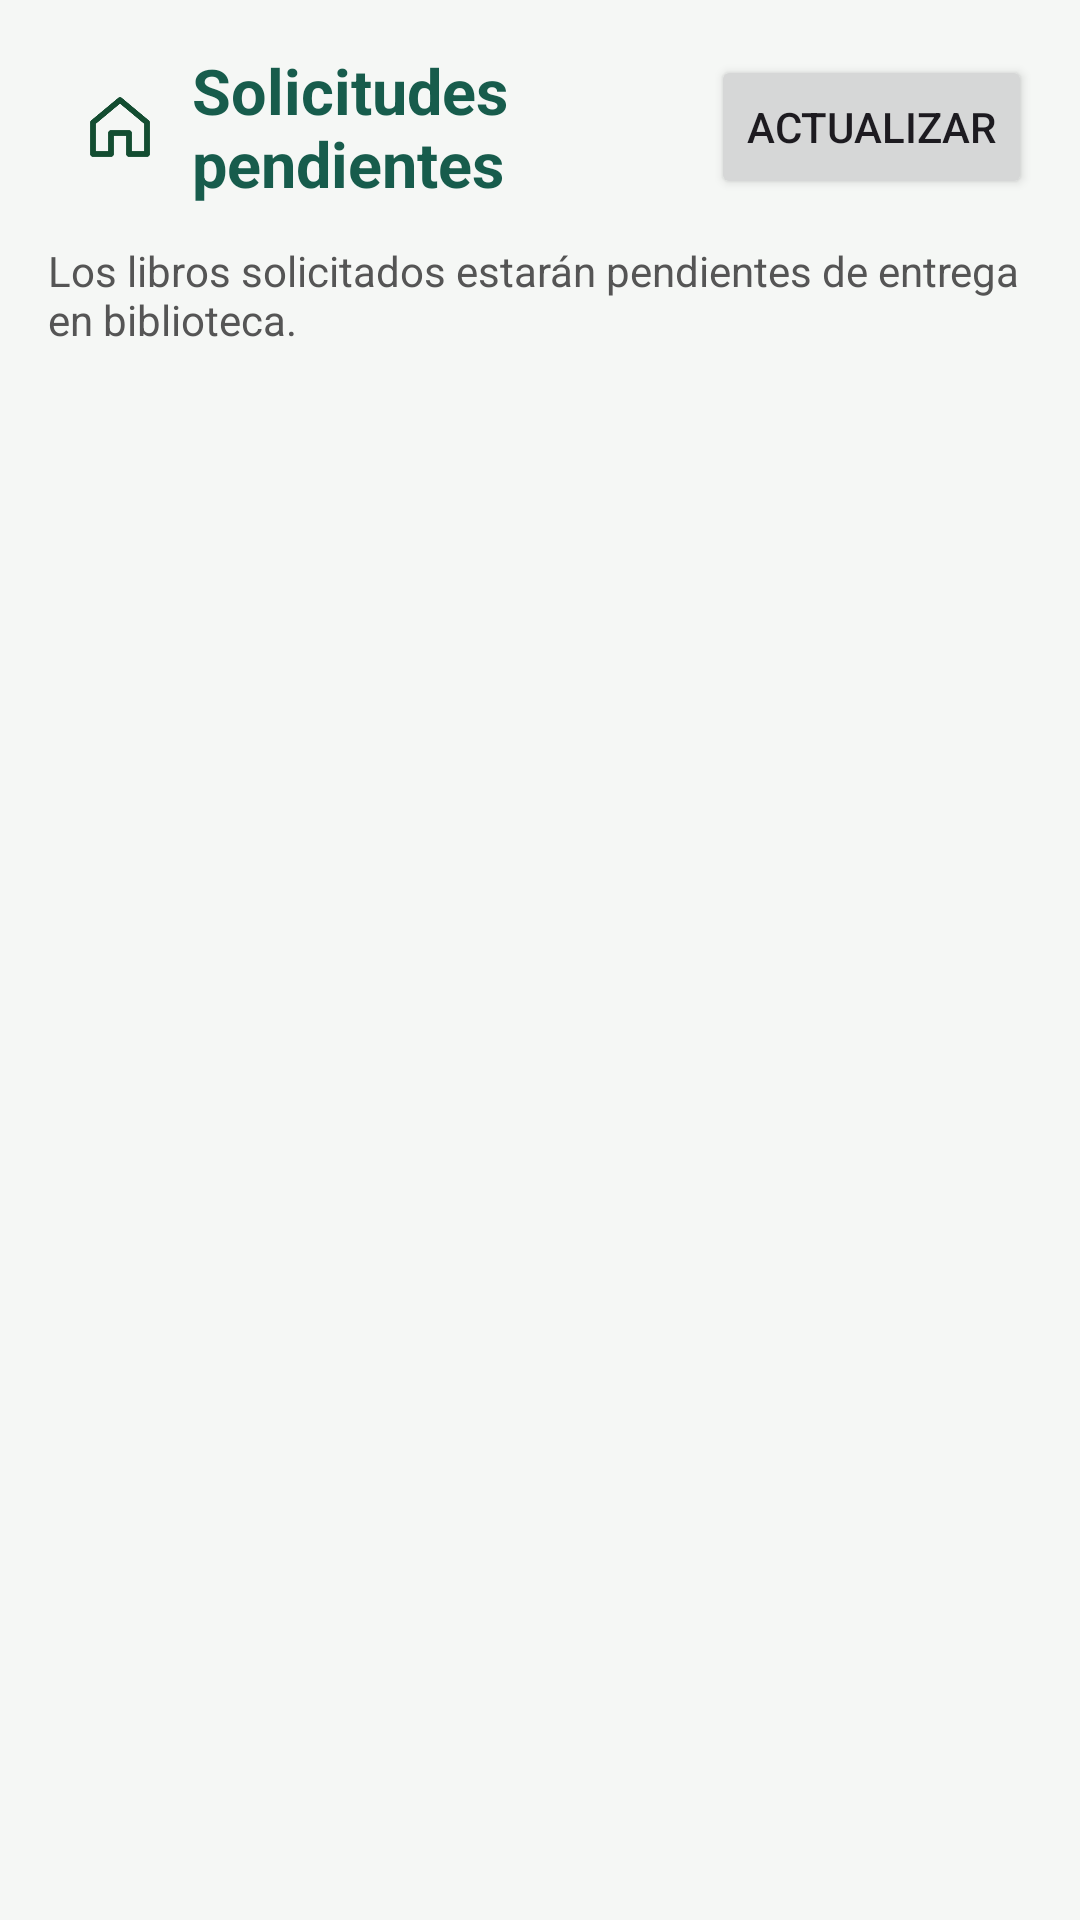

Where to tap for icons on this 1080px×1920px app screen, as (x=x, y=y):
Regresar: (x=120, y=127)
